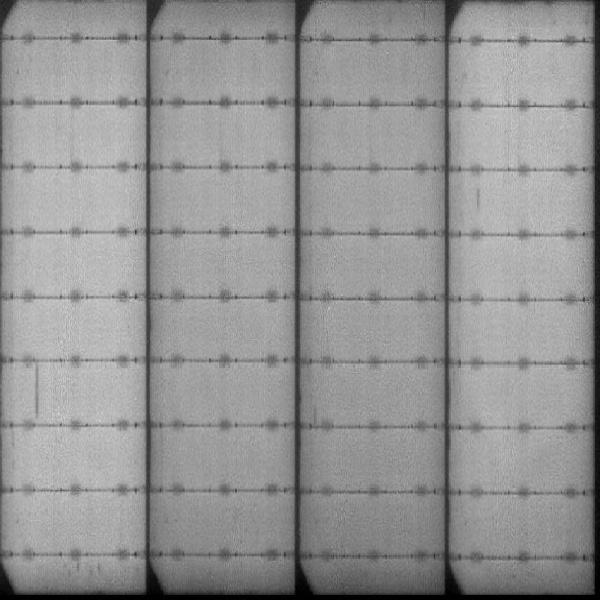scratch: (31, 366, 43, 419)
